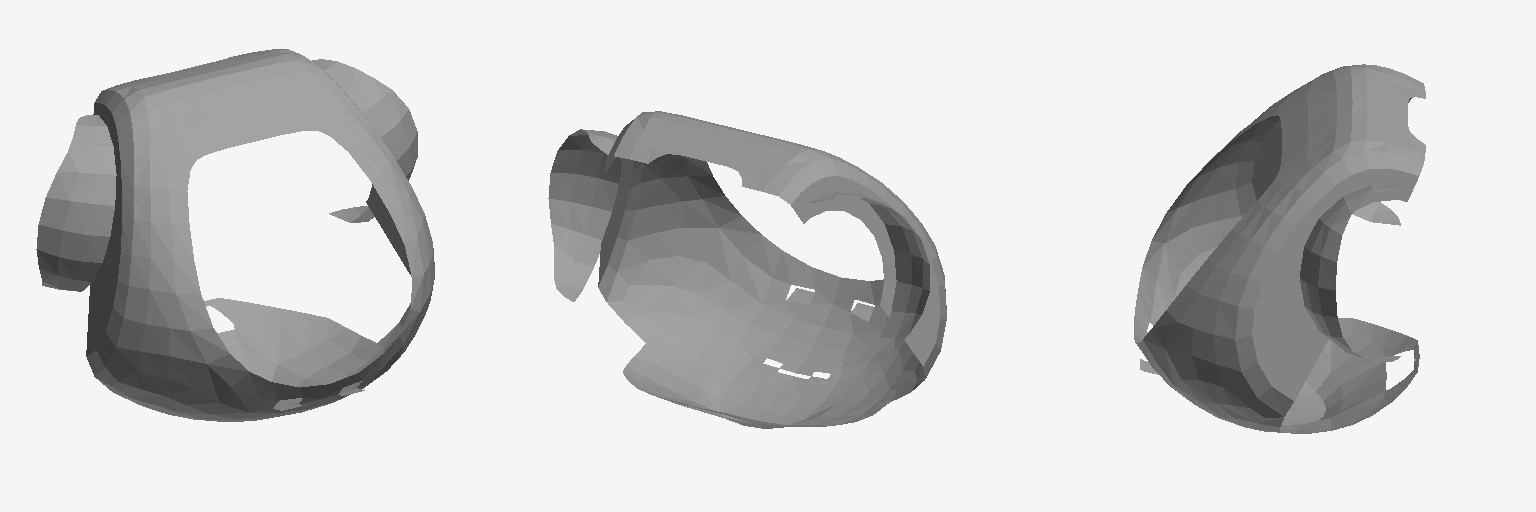
The model's file is ProtectronFrontDecal.obj.
The picture shows the model from 3 angles: view 1: azimuth 30°, elevation 25°; view 2: azimuth 150°, elevation 25°; view 3: azimuth 270°, elevation 25°; orthographic projection.
Visible parts, largest first — view 1: FrontArmorProtectron:1_FrontArmorProtectron:0.001; view 2: FrontArmorProtectron:1_FrontArmorProtectron:0.001; view 3: FrontArmorProtectron:1_FrontArmorProtectron:0.001.
Part boxes in pixels (bbox=[...]): FrontArmorProtectron:1_FrontArmorProtectron:0.001: bbox=[36, 49, 434, 421]; FrontArmorProtectron:1_FrontArmorProtectron:0.001: bbox=[548, 111, 946, 428]; FrontArmorProtectron:1_FrontArmorProtectron:0.001: bbox=[1134, 64, 1425, 433].
Bounding box in the file's own units: 5.86 × 4.5 × 3.88.